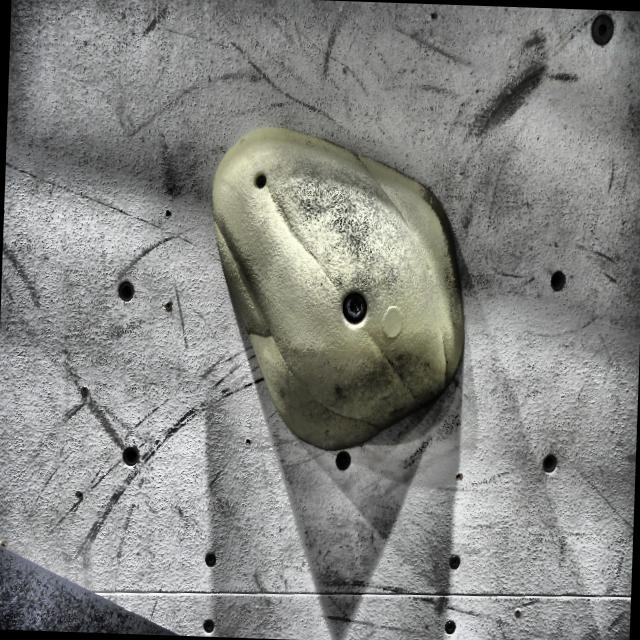Hold: (199, 130, 473, 456)
